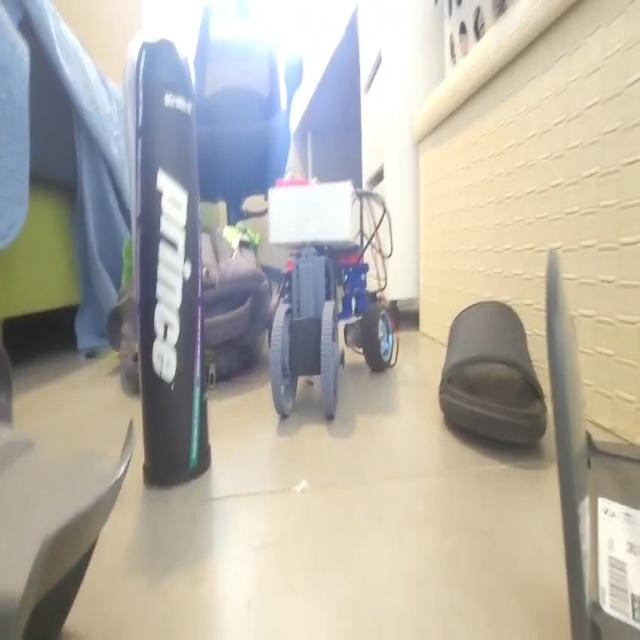Robot: (267, 174, 393, 421)
